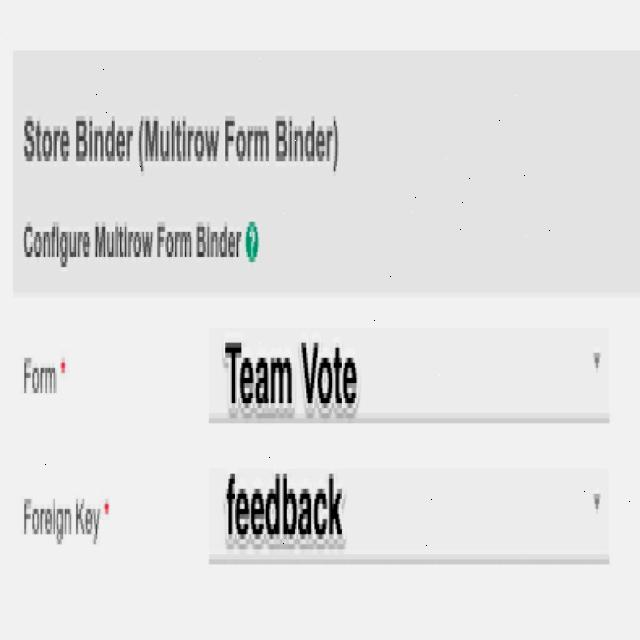dropdownMenu: (213, 466, 609, 568), (209, 326, 610, 424)
label: (11, 491, 137, 552), (9, 347, 83, 409)
